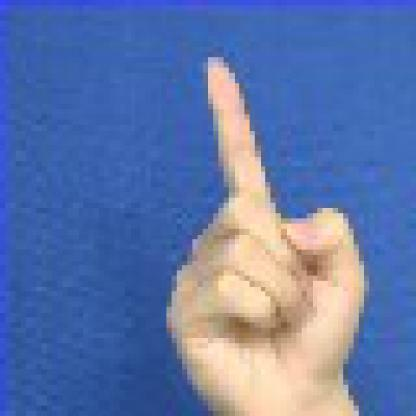one: (146, 41, 374, 410)
